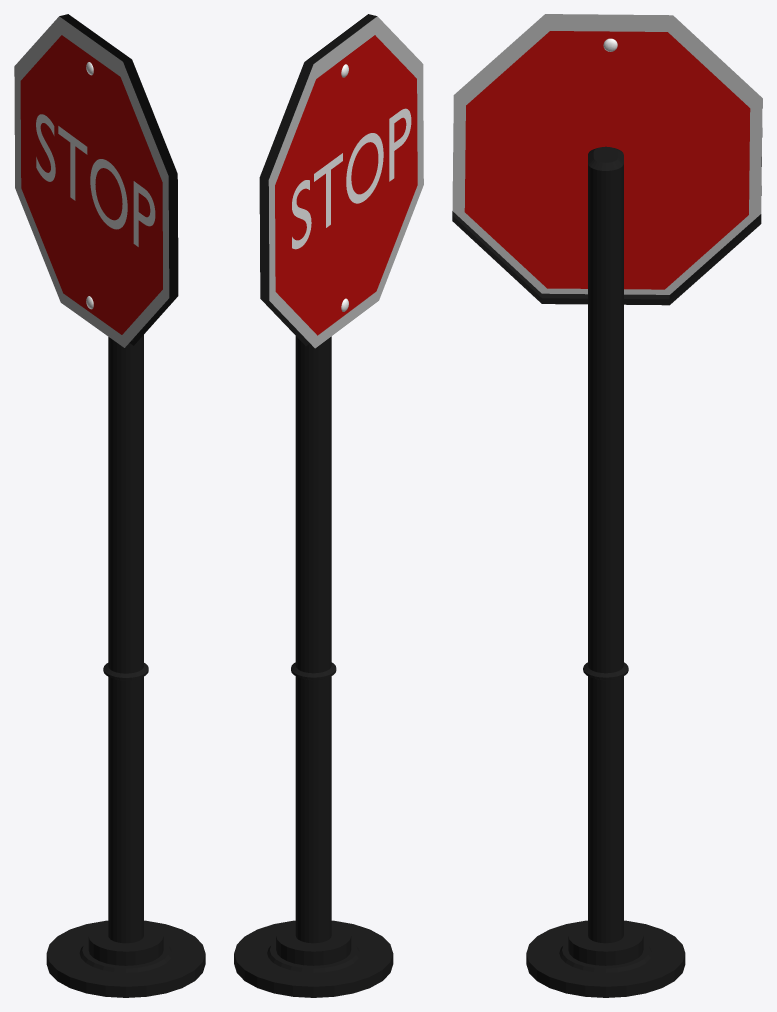
Rendered from stop.obj.
3 renders of one model, left to right at view 1: azimuth 30°, elevation 25°; view 2: azimuth 150°, elevation 25°; view 3: azimuth 270°, elevation 25°, orthographic.
Visible parts, largest first — view 1: Circle_Material.001_0, Circle.001_Material.002_0, Circle.001_Material.003_0, Circle.001_Material.004_0, Text__0; view 2: Circle_Material.001_0, Circle.001_Material.002_0, Circle.001_Material.003_0, Circle.001_Material.004_0, Text__0; view 3: Circle.001_Material.002_0, Circle_Material.001_0, Circle.001_Material.003_0, Circle.001_Material.004_0.
Part boxes in pixels (x1,y1,x2,y2): Circle_Material.001_0: (46,335,205,997); Circle.001_Material.002_0: (20,35,162,334); Circle.001_Material.003_0: (14,16,169,347); Circle.001_Material.004_0: (59,14,178,345); Text__0: (36,114,155,246); Circle_Material.001_0: (234,336,393,997); Circle.001_Material.002_0: (275,35,417,335); Circle.001_Material.003_0: (268,16,423,348); Circle.001_Material.004_0: (259,14,376,345); Text__0: (292,108,411,249); Circle.001_Material.002_0: (464,31,750,289); Circle_Material.001_0: (526,146,685,997); Circle.001_Material.003_0: (452,14,762,294); Circle.001_Material.004_0: (452,98,762,305).
Size of the model in its own units: 1 by 6.48 by 1.95.
